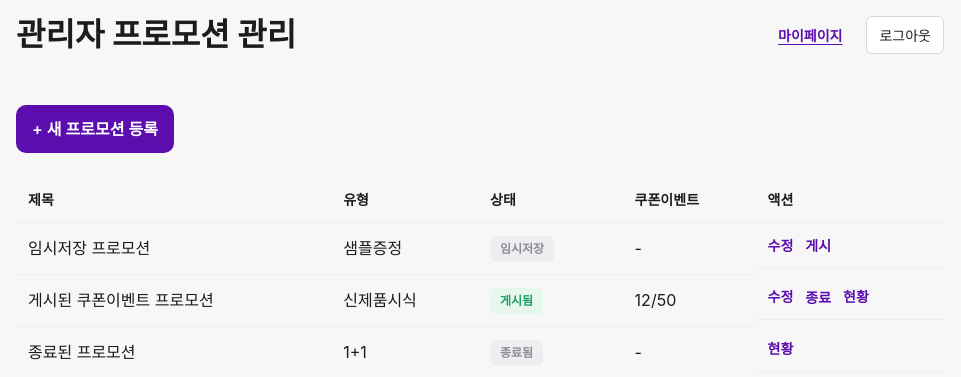
clicking "종료" on a published promotion PATCHes status=closed and the row updates after refetch
The image size is (961, 377).
expect the text "게시된 쿠폰이벤트 프로모션" is shown: met, box [16,274,331,326]
Click the button "종료" at (818, 297), box [805,286,831,307]
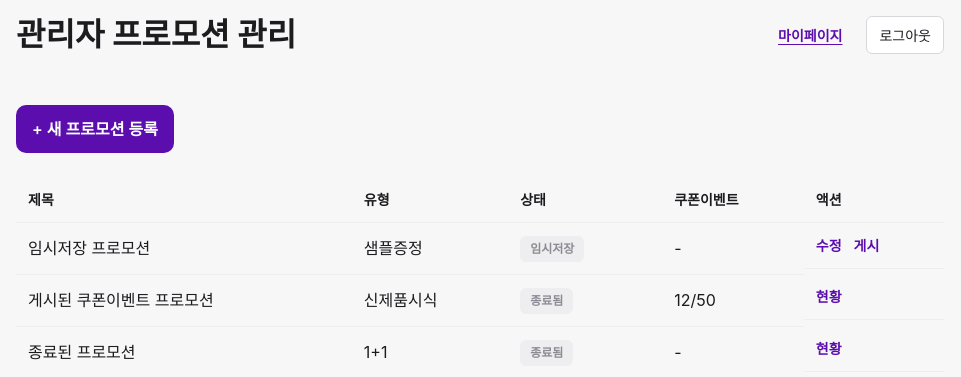
expect the text "종료됨" in the row of "게시된 쿠폰이벤트 프로모션" is shown: met, box [530,293,563,308]
